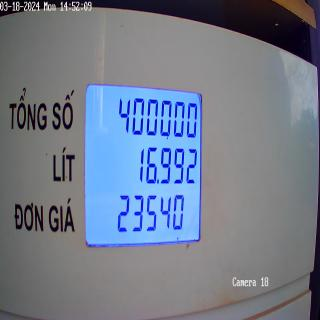screen: (84, 81, 204, 250)
